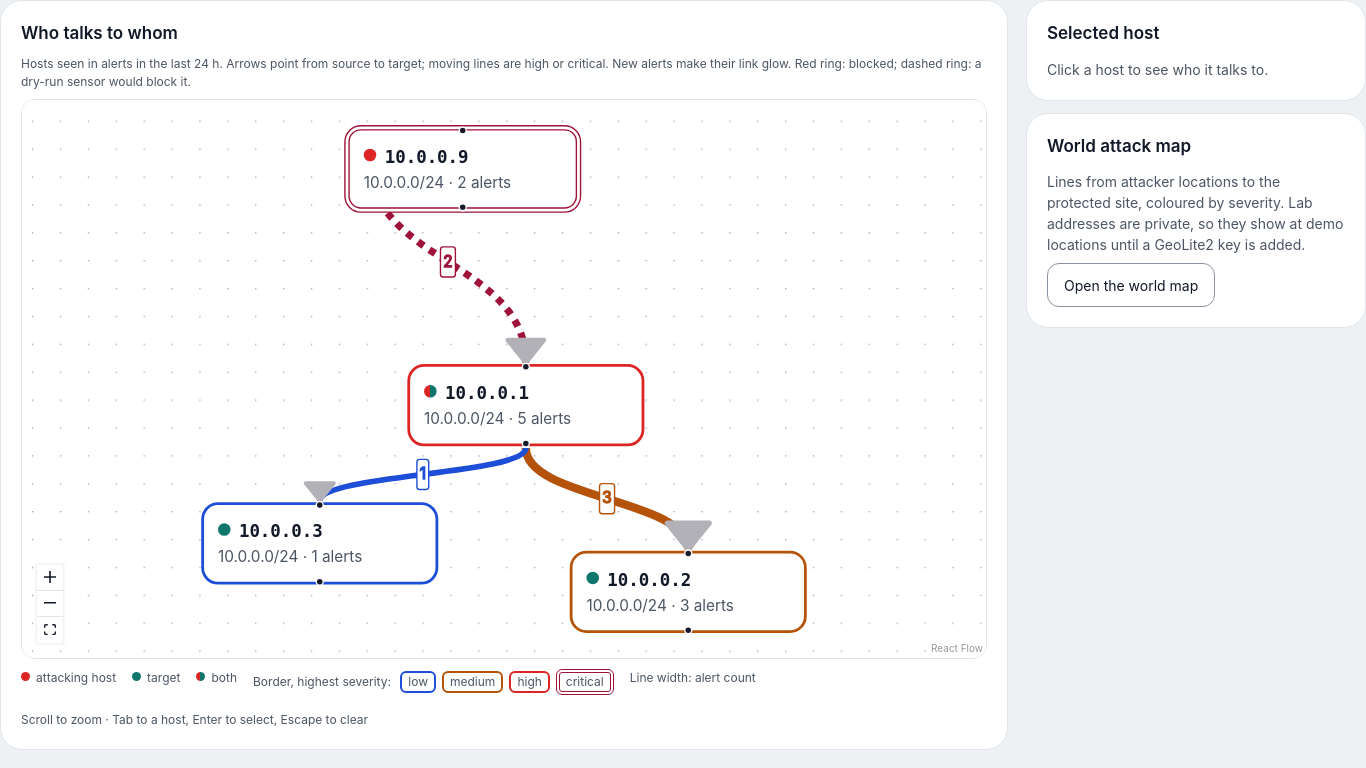
it: TopologyMap › block state › an active block shows sensor and expiry and hides the Block link
This screenshot has width=1366, height=768.
Click the element showing "10.0.0.9 10.0.0.0/24 · 2 alerts" at point(463, 169), box left=344, top=124, right=581, bottom=213
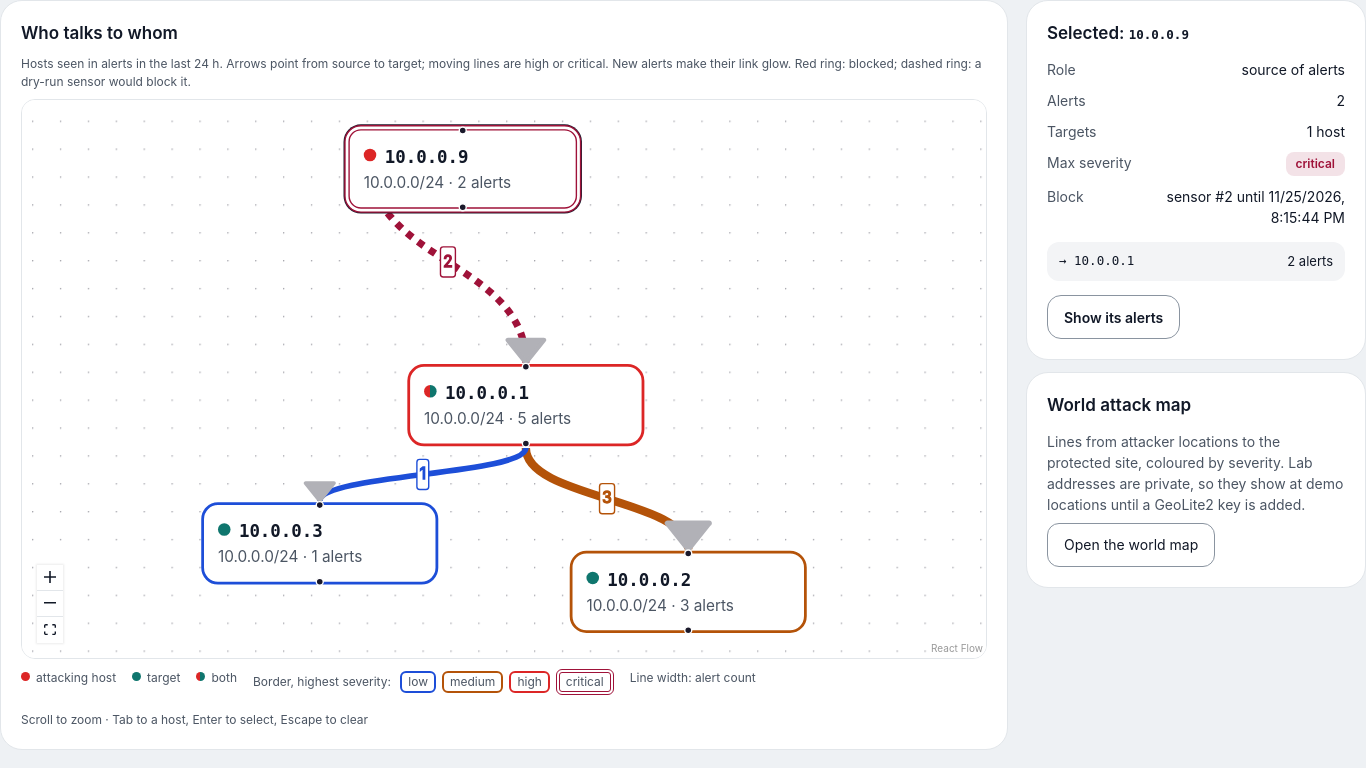
Expected: the text "sensor #2 until 11/25/2026, 8:15:44 PM" is shown, left=1148, top=186, right=1345, bottom=228
